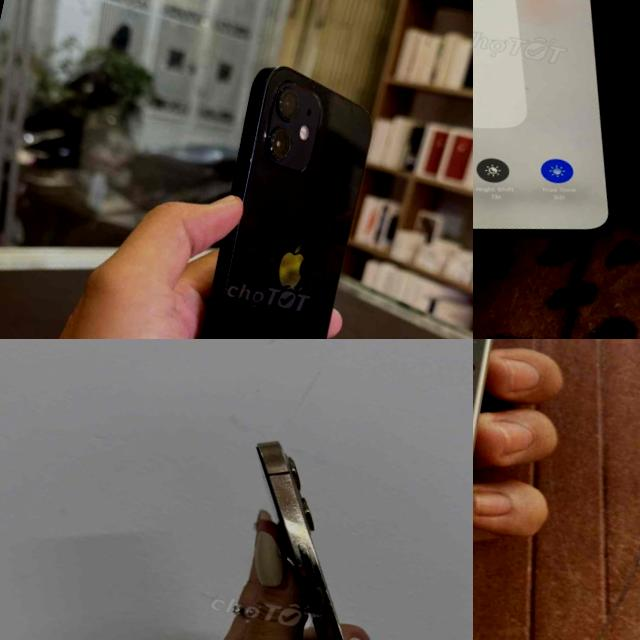gen_12_13: (169, 54, 389, 339), (173, 432, 473, 640)
gen_x_xs: (473, 0, 640, 284)
scratch: (278, 550, 362, 633), (256, 469, 326, 556), (473, 339, 516, 379)
